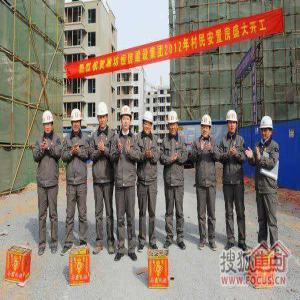white: (119, 105, 133, 134), (226, 108, 240, 137), (260, 115, 274, 142), (41, 110, 55, 136), (97, 102, 109, 130), (168, 110, 180, 138), (71, 107, 83, 134), (201, 113, 213, 139), (142, 111, 154, 135)
